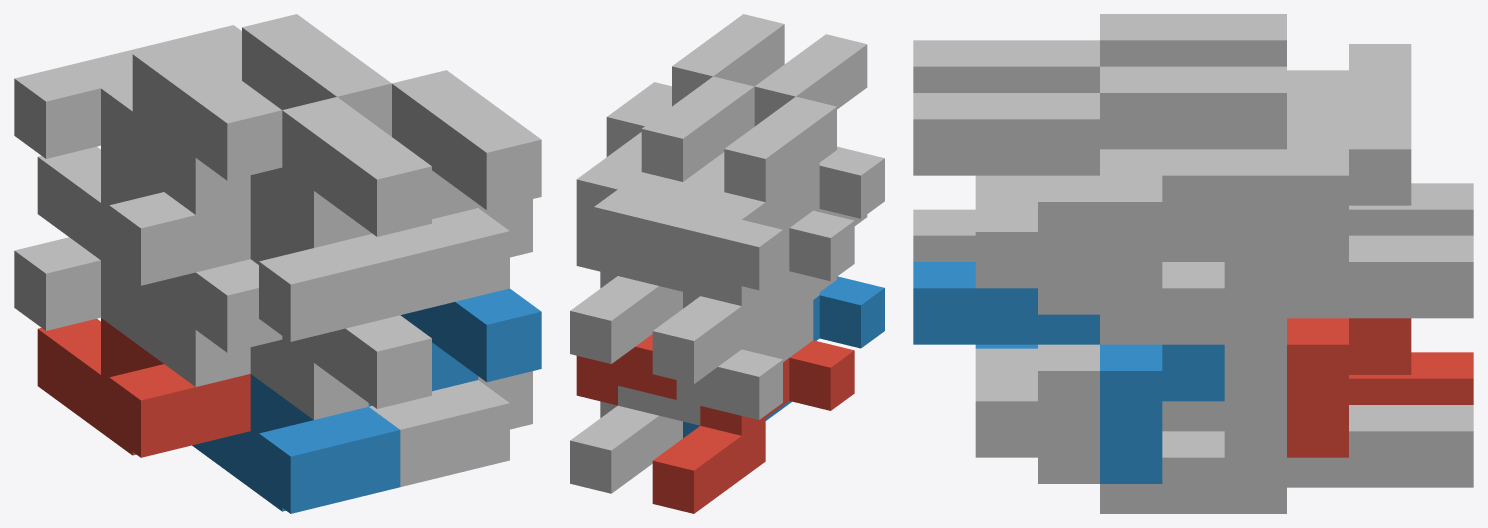
Rendered from tiling.obj.
3 renders of one model, left to right at view 1: azimuth 30°, elevation 25°; view 2: azimuth 150°, elevation 25°; view 3: azimuth 270°, elevation 25°, orthographic. The views are drawn at different scales.
Visible parts, largest first — view 1: copy_2_domain_3, copy_2_domain_4, copy_1_domain_1, copy_1_domain_3, copy_2_domain_1, copy_2_domain_2, copy_1_domain_2, copy_2_domain_8, copy_1_domain_4, copy_2_domain_7, copy_1_domain_6, copy_1_domain_8 (+1 smaller); view 2: copy_2_domain_3, copy_2_domain_7, copy_1_domain_3, copy_1_domain_1, copy_2_domain_1, copy_1_domain_7, copy_2_domain_8, copy_1_domain_5, copy_2_domain_4, copy_1_domain_2, copy_1_domain_4, copy_2_domain_5 (+2 smaller); view 3: copy_2_domain_7, copy_2_domain_8, copy_1_domain_8, copy_1_domain_6, copy_1_domain_7, copy_2_domain_6, copy_1_domain_5, copy_2_domain_3, copy_2_domain_5, copy_2_domain_4, copy_1_domain_3, copy_1_domain_1 (+1 smaller).
Boxes of the visible parts, <box> form: copy_2_domain_3: <box>14,41,282,191</box>; copy_2_domain_4: <box>164,97,431,247</box>; copy_1_domain_1: <box>37,318,250,457</box>; copy_1_domain_3: <box>37,146,250,285</box>; copy_2_domain_1: <box>14,237,282,363</box>; copy_2_domain_2: <box>164,307,431,419</box>; copy_1_domain_2: <box>192,374,400,513</box>; copy_2_domain_8: <box>392,70,541,218</box>; copy_1_domain_4: <box>250,202,400,341</box>; copy_2_domain_7: <box>124,14,391,136</box>; copy_1_domain_6: <box>369,371,532,486</box>; copy_1_domain_8: <box>369,199,532,314</box>; copy_2_domain_3: <box>659,96,836,295</box>; copy_2_domain_7: <box>576,76,754,275</box>; copy_1_domain_3: <box>652,164,854,384</box>; copy_1_domain_1: <box>652,340,854,513</box>; copy_2_domain_1: <box>659,271,836,425</box>; copy_1_domain_7: <box>570,144,682,363</box>; copy_2_domain_8: <box>606,14,784,156</box>; copy_1_domain_5: <box>570,386,682,493</box>; copy_2_domain_4: <box>707,34,867,227</box>; copy_1_domain_2: <box>683,276,884,438</box>; copy_1_domain_4: <box>683,146,884,308</box>; copy_2_domain_5: <box>576,334,676,405</box>; copy_2_domain_7: <box>1100,66,1411,288</box>; copy_2_domain_8: <box>913,93,1224,314</box>; copy_1_domain_8: <box>975,175,1286,344</box>; copy_1_domain_6: <box>975,344,1286,513</box>; copy_1_domain_7: <box>1162,149,1473,318</box>; copy_2_domain_6: <box>913,262,1224,483</box>; copy_1_domain_5: <box>1162,344,1473,487</box>; copy_2_domain_3: <box>1100,14,1411,122</box>; copy_2_domain_5: <box>1287,318,1411,457</box>; copy_2_domain_4: <box>913,40,1099,92</box>; copy_1_domain_3: <box>1349,183,1473,235</box>; copy_1_domain_1: <box>1349,352,1473,404</box>.
Size of the model in its own units: 6 by 7 by 9.
